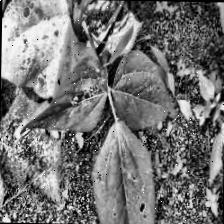ALS: (27, 52, 112, 144), (87, 119, 159, 224)
